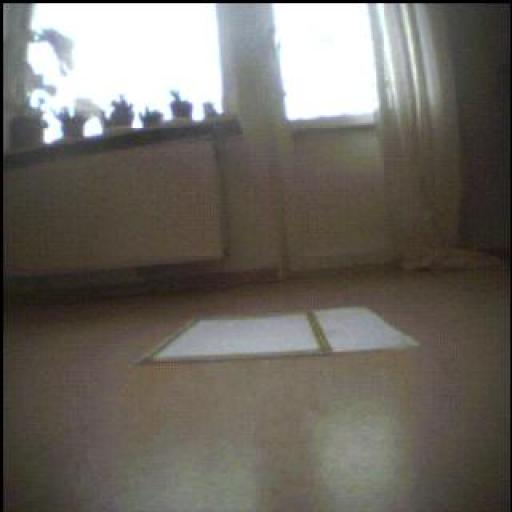Pad: (144, 308, 419, 364)
